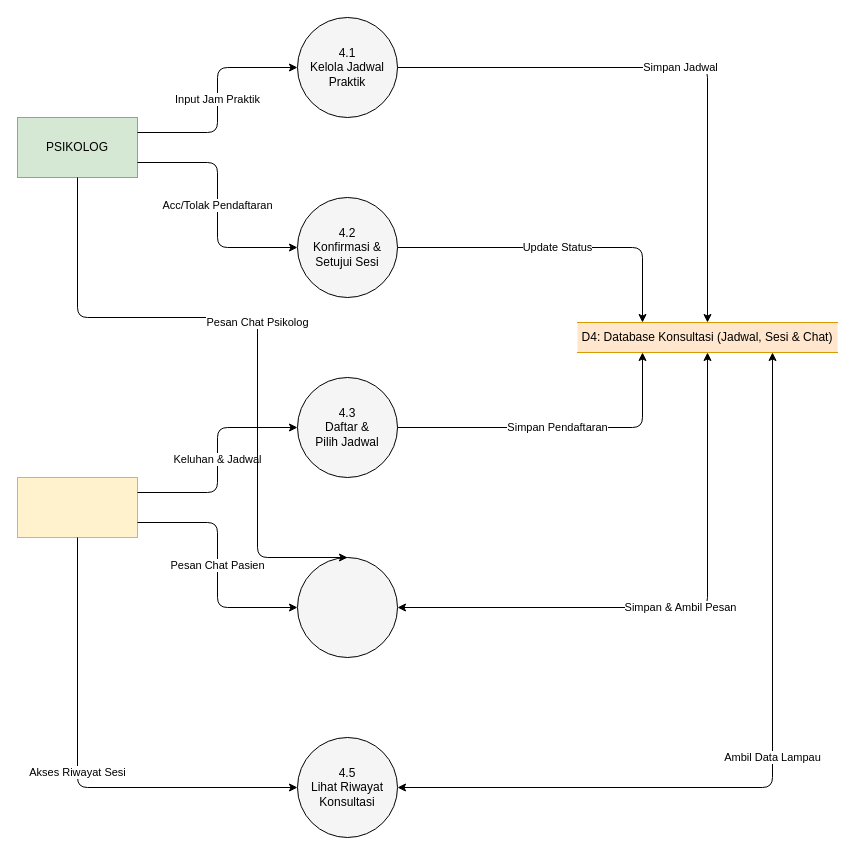
The diagram is 855 pixels wide and 855 high, and some of its shapes have lost their labels. Each missing label, with the centre of its shape:
"4.4 Pelaksanaan Sesi Chat" goes at (347,607).
"PASIEN" goes at (77,507).
